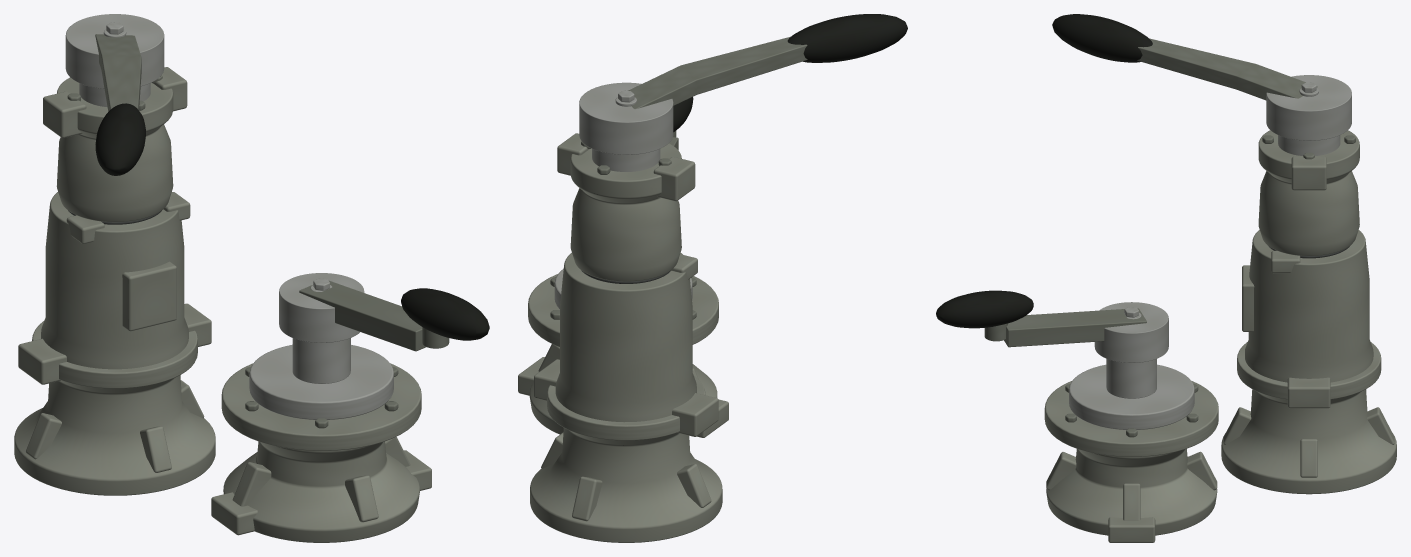
File: BrakeValves_with_handles.fbx
3 renders of one model, left to right at view 1: azimuth 30°, elevation 25°; view 2: azimuth 150°, elevation 25°; view 3: azimuth 270°, elevation 25°, orthographic. The views are drawn at different scales.
Visible parts, largest first — view 1: Tall_Lower_Casting, Short_Lower_Casting, Tall_Upper_Casting, Short_Flange, Short_Cover, Tall_Removable_Hub, Short_Compact_Arm, Short_Removable_Hub, Tall_Front_Cast_Boss, Short_Distinct_Grip, Tall_Lower_Flange, Tall_Distinct_Grip (+14 smaller); view 2: Tall_Lower_Casting, Tall_Upper_Casting, Tall_Removable_Hub, Tall_Dogleg_Arm, Tall_Distinct_Grip, Short_Flange, Tall_Lower_Flange, Tall_Lower_Flange_Ear_1, Tall_Cap_Ear_1, Tall_Exposed_Spindle, Short_Lower_Casting, Tall_Foot_Rib_1 (+4 smaller); view 3: Tall_Lower_Casting, Short_Lower_Casting, Tall_Upper_Casting, Short_Flange, Short_Cover, Tall_Dogleg_Arm, Tall_Removable_Hub, Short_Compact_Arm, Tall_Distinct_Grip, Short_Removable_Hub, Short_Distinct_Grip, Tall_Lower_Flange (+12 smaller).
Boxes of the visible parts, bbox=[...] form: Tall_Lower_Casting: bbox=[14, 192, 215, 495]; Short_Lower_Casting: bbox=[223, 441, 419, 542]; Tall_Upper_Casting: bbox=[56, 77, 173, 222]; Short_Flange: bbox=[221, 363, 421, 450]; Short_Cover: bbox=[249, 344, 393, 419]; Tall_Removable_Hub: bbox=[65, 14, 164, 88]; Short_Compact_Arm: bbox=[299, 280, 426, 351]; Short_Removable_Hub: bbox=[279, 273, 364, 342]; Tall_Front_Cast_Boss: bbox=[122, 261, 176, 331]; Short_Distinct_Grip: bbox=[401, 288, 489, 340]; Tall_Lower_Flange: bbox=[32, 321, 197, 388]; Tall_Distinct_Grip: bbox=[95, 103, 145, 175]; Tall_Lower_Casting: bbox=[530, 252, 722, 542]; Tall_Upper_Casting: bbox=[570, 143, 681, 281]; Tall_Removable_Hub: bbox=[579, 82, 673, 154]; Tall_Dogleg_Arm: bbox=[628, 36, 807, 109]; Tall_Distinct_Grip: bbox=[787, 14, 907, 62]; Short_Flange: bbox=[528, 274, 718, 346]; Tall_Lower_Flange: bbox=[547, 376, 705, 440]; Tall_Lower_Flange_Ear_1: bbox=[672, 393, 718, 436]; Tall_Cap_Ear_1: bbox=[653, 157, 695, 201]; Tall_Exposed_Spindle: bbox=[592, 148, 660, 171]; Short_Lower_Casting: bbox=[529, 364, 717, 434]; Tall_Foot_Rib_1: bbox=[572, 476, 602, 521]; Tall_Lower_Casting: bbox=[1221, 230, 1396, 494]; Short_Lower_Casting: bbox=[1046, 448, 1217, 535]; Tall_Upper_Casting: bbox=[1258, 130, 1359, 255]; Short_Flange: bbox=[1044, 381, 1218, 456]; Short_Cover: bbox=[1069, 364, 1194, 429]; Tall_Dogleg_Arm: bbox=[1137, 38, 1317, 100]; Tall_Removable_Hub: bbox=[1266, 75, 1351, 140]; Short_Compact_Arm: bbox=[1004, 308, 1146, 347]; Tall_Distinct_Grip: bbox=[1052, 14, 1152, 62]; Short_Removable_Hub: bbox=[1094, 302, 1168, 362]; Short_Distinct_Grip: bbox=[936, 290, 1033, 328]; Tall_Lower_Flange: bbox=[1237, 342, 1381, 399].
Bounding box in the file's own units: 18.25 × 22.05 × 23.64.
5 materials, 4 textured.
